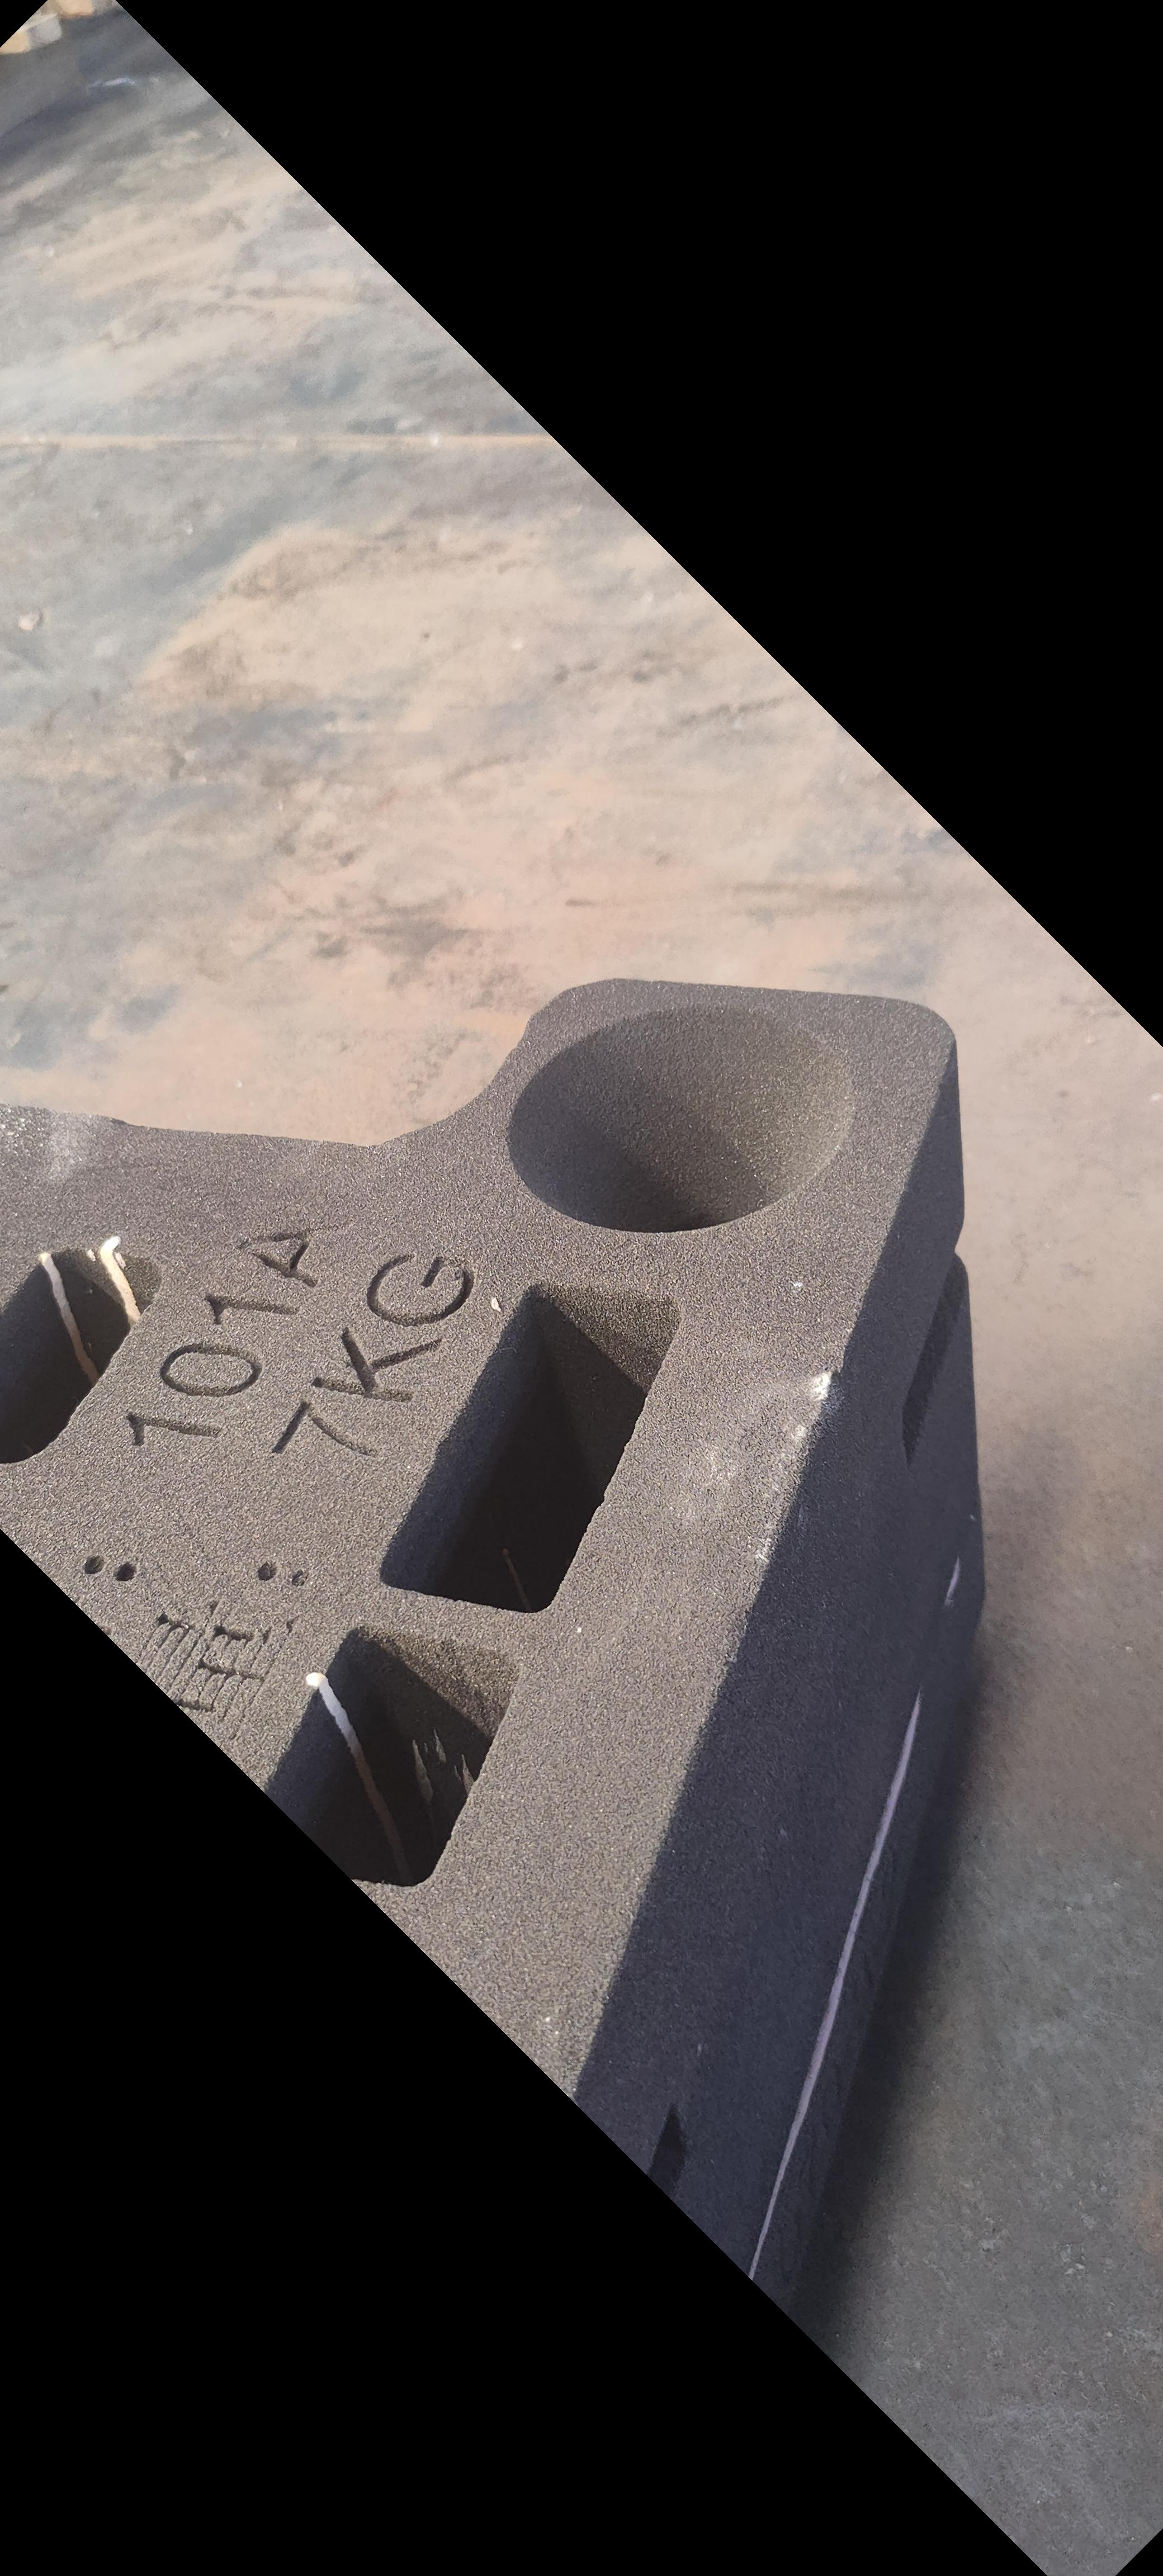pouring hole: (506, 1004, 862, 1234)
